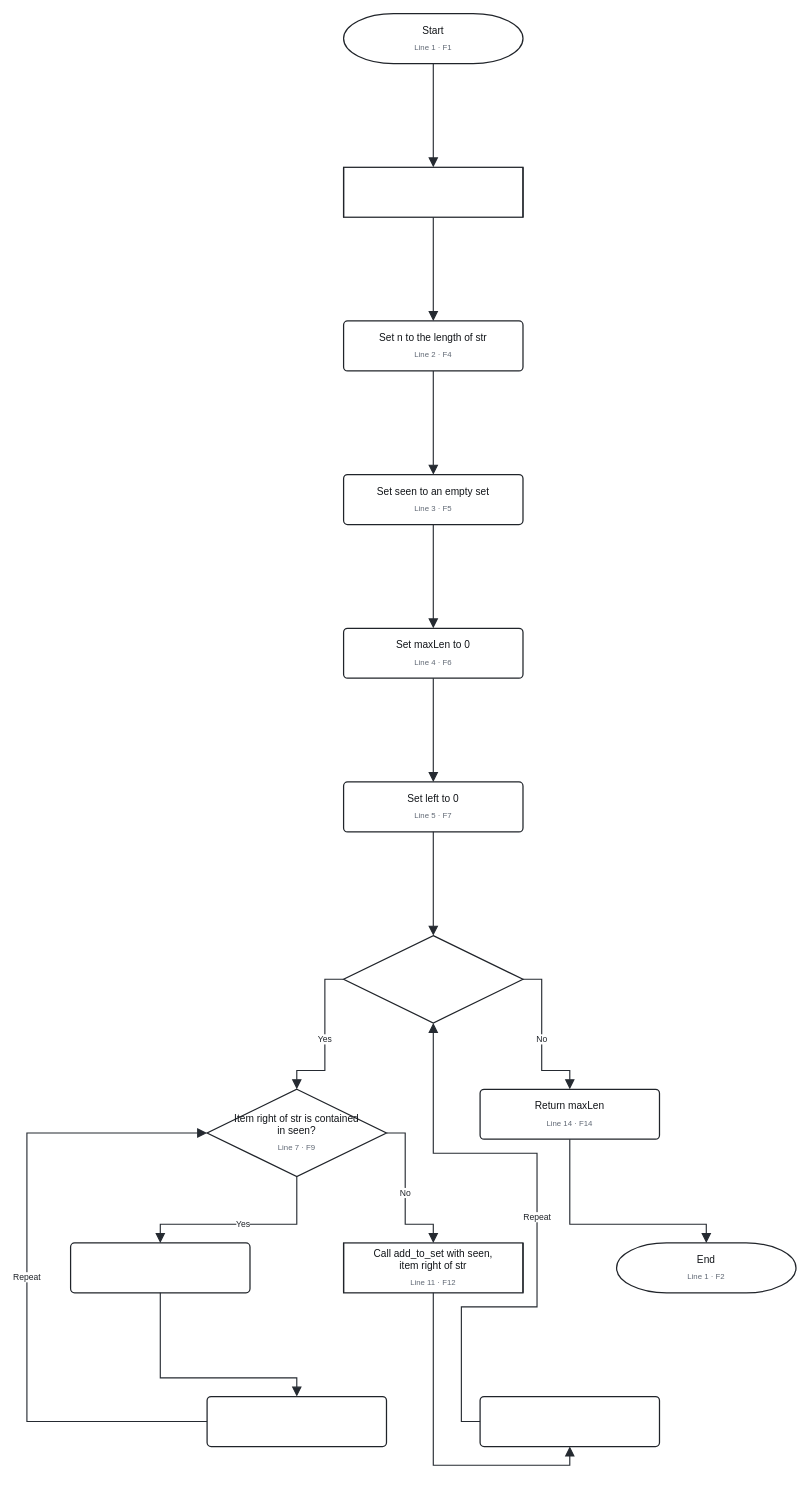
Image size: 810x1488. Some labels were removed from this diagram. Each missing label, with the centre of its shape:
"Call seen.remove with item left of str Line 8 · F10" goes at (x=160, y=1267).
"For right from 0 to n minus 1 plus 1 Line 6 · F8" goes at (x=433, y=979).
"Run function longestSubstringLength with str Line 1 · F3" goes at (x=433, y=191).
"Set left to left plus 1 Line 9 · F11" goes at (x=296, y=1421).
"Set maxLen to the result of max(maxLen, right minus left plus 1) Line 12 · F13" goes at (x=569, y=1421).
